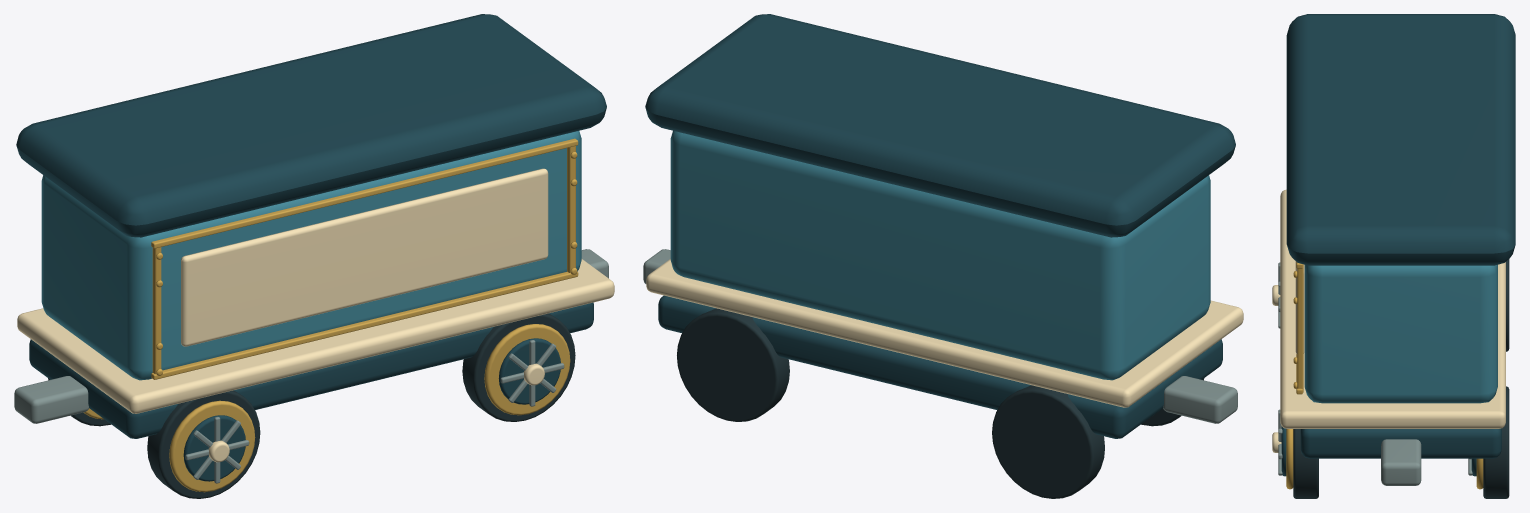
The model's file is wagon.glb.
3 renders of one model, left to right at view 1: azimuth 30°, elevation 25°; view 2: azimuth 150°, elevation 25°; view 3: azimuth 270°, elevation 25°, orthographic. The views are drawn at different scales.
Visible parts, largest first — view 1: Curved coach roof, Coach body, Recessed word panel, Cream running board, Cast chassis, Wheel -1.08 -0.59, Wheel 1.08 -0.59, Coach rim.001, Coach rim, Coupler, Corner brass binding, Corner brass binding.001; view 2: Coach body, Curved coach roof, Cream running board, Cast chassis, Wheel -1.08 0.59, Wheel 1.08 0.59, Coupler; view 3: Curved coach roof, Coach body, Cream running board, Cast chassis, Wheel 1.08 -0.59, Coupler.001, Wheel 1.08 0.59, Corner brass binding.001, Recessed word panel, Wheel -1.08 0.59, Wheel -1.08 -0.59.
Boxes of the visible parts, box(x1,y1,x2,y2) form: Curved coach roof: box(16, 14, 606, 237); Coach body: box(41, 131, 581, 380); Recessed word panel: box(181, 168, 548, 346); Cream running board: box(17, 259, 614, 413); Cast chassis: box(29, 302, 593, 438); Wheel -1.08 -0.59: box(147, 390, 260, 498); Wheel 1.08 -0.59: box(462, 313, 575, 421); Coach rim.001: box(151, 138, 578, 248); Coach rim: box(151, 271, 578, 379); Coupler: box(14, 376, 88, 423); Corner brass binding: box(152, 247, 161, 374); Corner brass binding.001: box(567, 146, 575, 273); Coach body: box(670, 130, 1210, 380); Curved coach roof: box(645, 14, 1235, 237); Cream running board: box(646, 259, 1243, 407); Cast chassis: box(658, 295, 1222, 438); Wheel -1.08 0.59: box(992, 385, 1104, 498); Wheel 1.08 0.59: box(677, 308, 789, 421); Coupler: box(1163, 376, 1237, 423); Curved coach roof: box(1286, 14, 1515, 265); Coach body: box(1304, 264, 1497, 403); Cream running board: box(1280, 189, 1505, 428); Cast chassis: box(1300, 428, 1501, 458); Wheel 1.08 -0.59: box(1272, 409, 1318, 498); Coupler.001: box(1381, 439, 1421, 485); Wheel 1.08 0.59: box(1468, 386, 1509, 498); Corner brass binding.001: box(1297, 264, 1303, 392); Recessed word panel: box(1295, 261, 1304, 354); Wheel -1.08 0.59: box(1506, 259, 1509, 351); Wheel -1.08 -0.59: box(1272, 262, 1280, 328).
Size of the model in its own units: 3.96 by 2.05 by 1.51.
